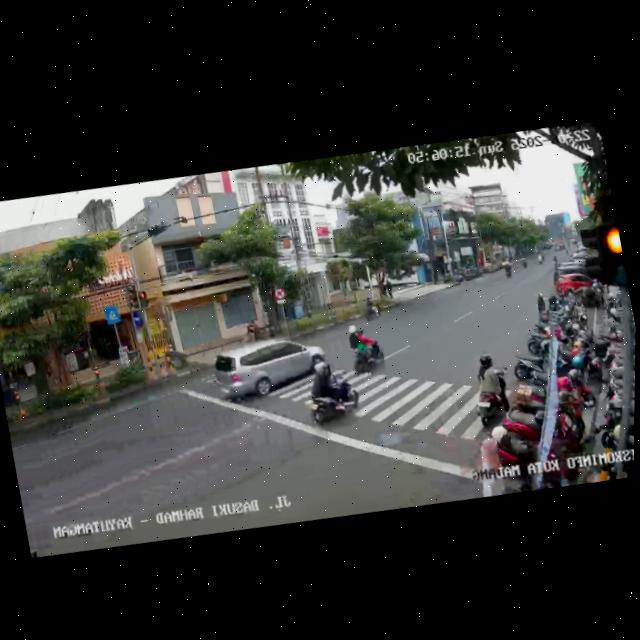car: (212, 325, 333, 412), (550, 256, 597, 300)
motorcycle: (298, 352, 363, 430), (467, 352, 513, 425), (342, 318, 388, 379), (361, 291, 382, 323)
